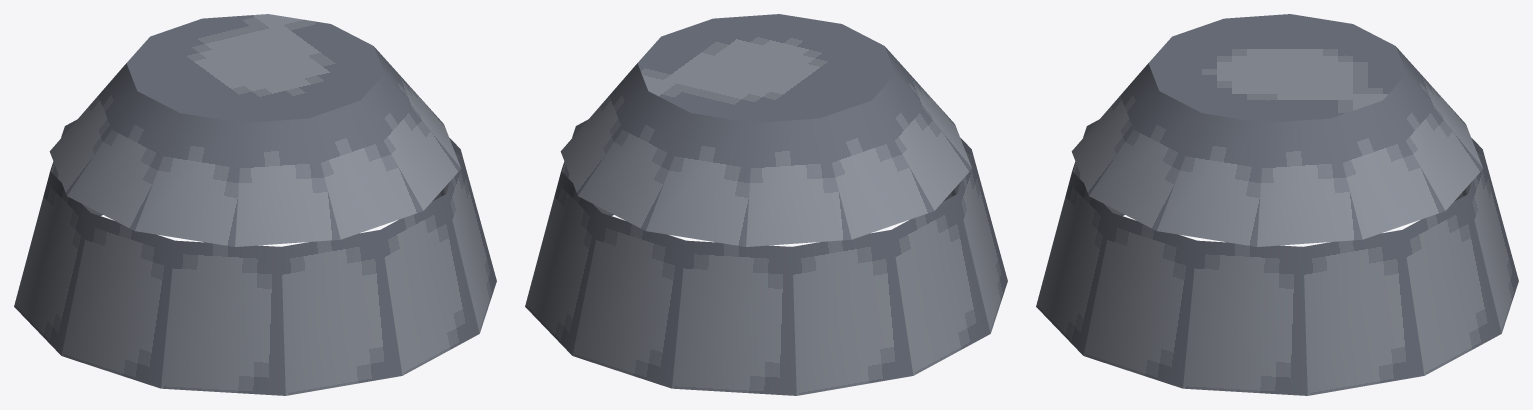
The model's file is rock_4.glb.
3 views of the same model, side by side, from view 1: azimuth 30°, elevation 25°; view 2: azimuth 150°, elevation 25°; view 3: azimuth 270°, elevation 25° (orthographic).
Parts seen in each view (by area): view 1: rock_5; view 2: rock_5; view 3: rock_5.
Boxes of the visible parts, <box> form: rock_5: <box>14,14,496,395</box>; rock_5: <box>525,14,1007,395</box>; rock_5: <box>1036,14,1518,395</box>.
Bounding box in the file's own units: 1 × 0.5151 × 1.
1 material, 1 textured.
